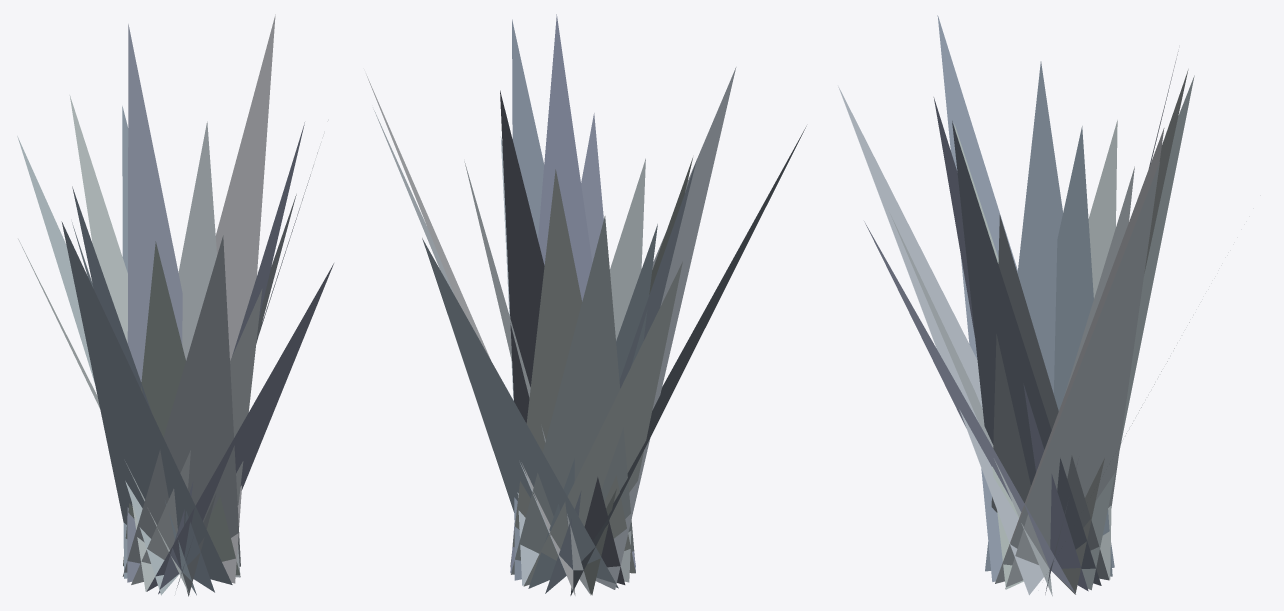
Rendered from frost-tuft.glb.
3 views of the same model, side by side, from view 1: azimuth 30°, elevation 25°; view 2: azimuth 150°, elevation 25°; view 3: azimuth 270°, elevation 25° (orthographic). The views are drawn at different scales.
Parts seen in each view (by area): view 1: frost-tuft-b, frost-tuft-a, frost-tuft-c; view 2: frost-tuft-c, frost-tuft-b, frost-tuft-a; view 3: frost-tuft-c, frost-tuft-b, frost-tuft-a.
Boxes of the visible parts, <box> form: frost-tuft-b: <box>18,24,317,595</box>; frost-tuft-a: <box>69,14,304,594</box>; frost-tuft-c: <box>17,106,333,596</box>; frost-tuft-c: <box>373,109,692,595</box>; frost-tuft-b: <box>464,19,806,595</box>; frost-tuft-a: <box>366,14,736,595</box>; frost-tuft-c: <box>864,75,1194,592</box>; frost-tuft-b: <box>889,15,1178,596</box>; frost-tuft-a: <box>838,61,1188,595</box>.
Size of the model in its own units: 0.1026 by 0.1539 by 0.1116.
